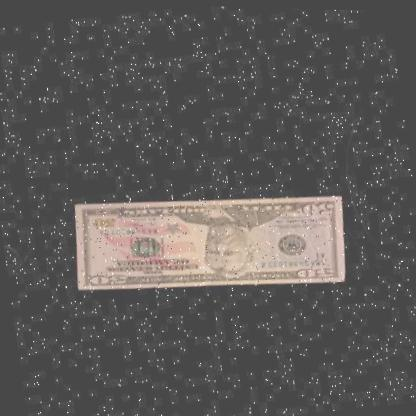fifty-front: (69, 163, 356, 311)
